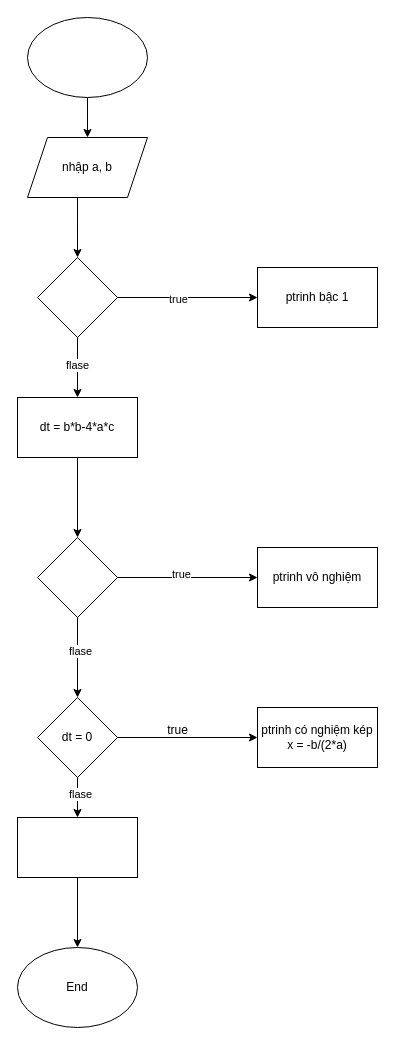
Image size: 395x1045. Some labels were removed from this diagram. The shapes that lost their labels are listed below. From the top down, each one's centre as x and y in pixels, then its label:
At pixel 87 57: "Start".
At pixel 77 297: "a = 0".
At pixel 77 577: "dt < 0".
At pixel 77 847: "ptrinh có 2 nghiệm phân biệt x1 = -b - dt/(2*a) x2 = -b + dt/(2*a)".
